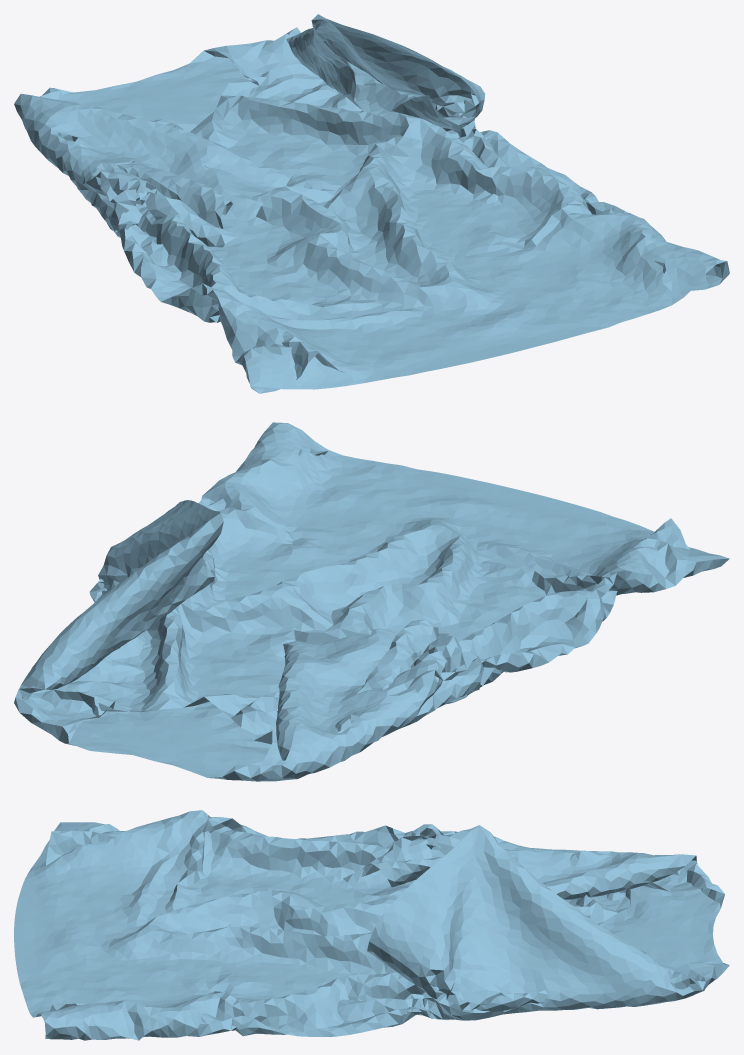
The model's file is frame_15.glb.
3 renders of one model, top to bottom at view 1: azimuth 30°, elevation 25°; view 2: azimuth 150°, elevation 25°; view 3: azimuth 270°, elevation 25°, orthographic. The views are drawn at different scales.
Visible parts, largest first — view 1: frame_15.obj; view 2: frame_15.obj; view 3: frame_15.obj.
Boxes of the visible parts, left/top/right/bottom form: frame_15.obj: left=14, top=14, right=729, bottom=393; frame_15.obj: left=14, top=422, right=729, bottom=781; frame_15.obj: left=14, top=810, right=729, bottom=1040.
Bounding box in the file's own units: 1.22 × 0.3744 × 1.7.
